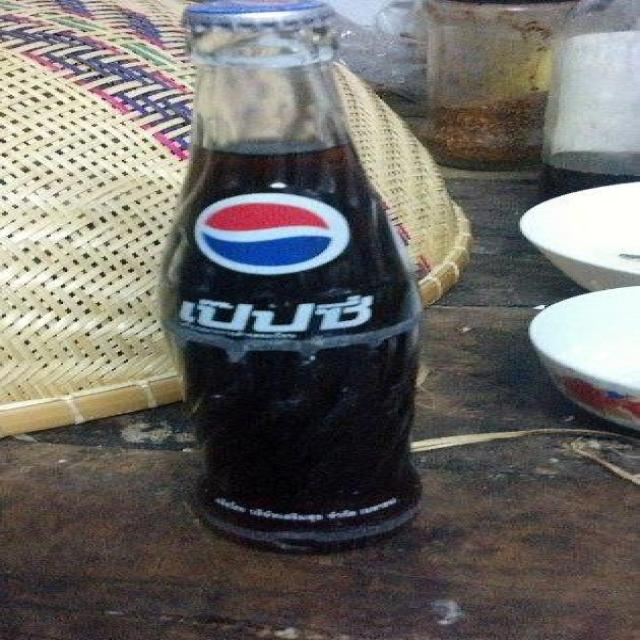glass-bottle: (113, 1, 475, 565)
